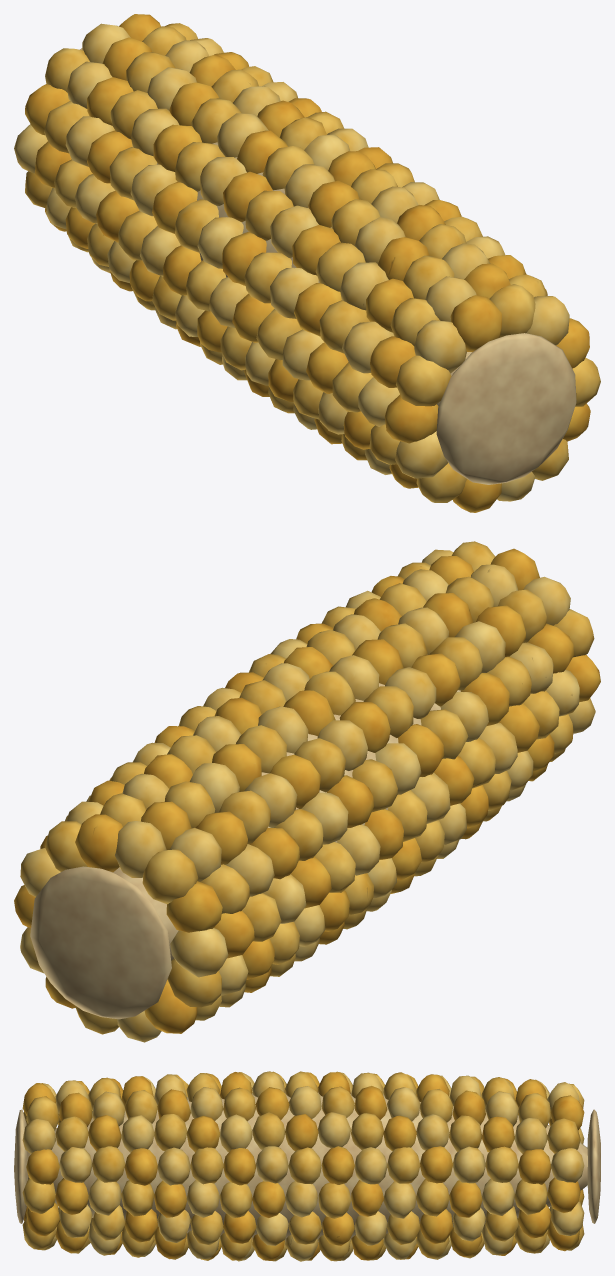
The model's file is corn.glb.
The picture shows the model from 3 angles, top to bottom: view 1: azimuth 30°, elevation 25°; view 2: azimuth 150°, elevation 25°; view 3: azimuth 270°, elevation 25°; orthographic projection. The views are drawn at different scales.
Visible parts, largest first — view 1: corn.002; view 2: corn.002; view 3: corn.002.
Part boxes in pixels (box(x1,y1,x2,y2)): corn.002: box(14, 14, 600, 512); corn.002: box(14, 541, 600, 1042); corn.002: box(14, 1071, 600, 1261).
Size of the model in its own units: 0.0538 by 0.053 by 0.1629.
Materials: 1 (1 with a texture image).
